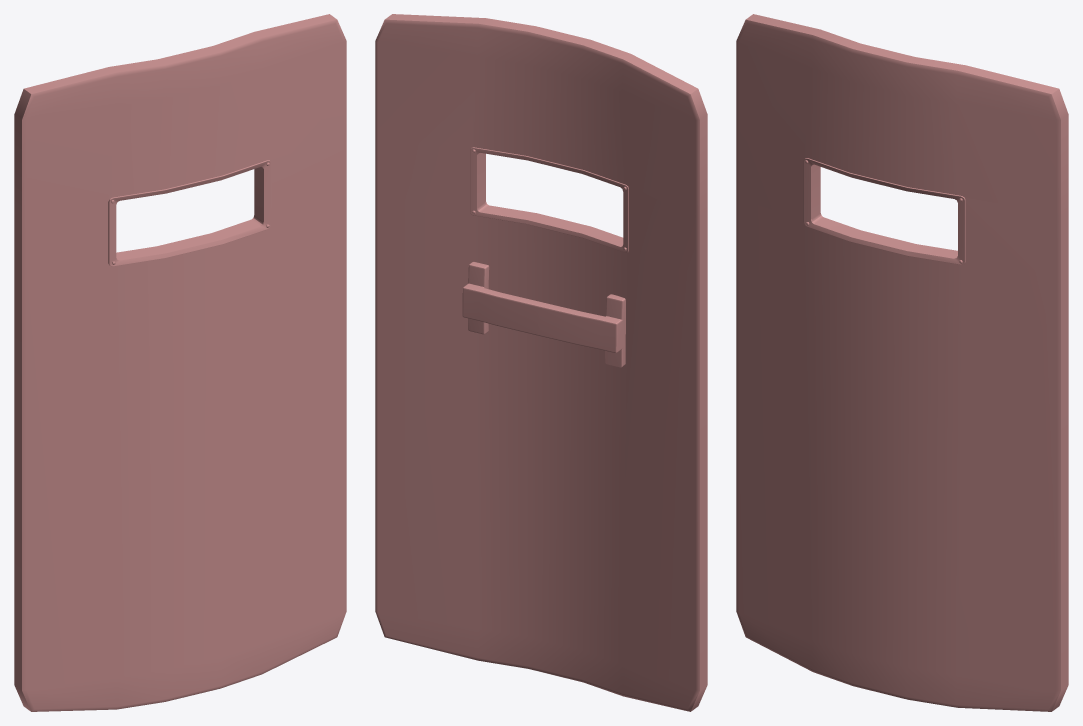
Rendered from RiotSheild01.fbx.
3 renders of one model, left to right at view 1: azimuth 30°, elevation 25°; view 2: azimuth 150°, elevation 25°; view 3: azimuth 330°, elevation 25°, orthographic.
Visible parts, largest first — view 1: RiotShield_Sheild; view 2: RiotShield_Sheild; view 3: RiotShield_Sheild.
Part boxes in pixels (bbox=[...]): RiotShield_Sheild: bbox=[14, 14, 346, 711]; RiotShield_Sheild: bbox=[375, 14, 707, 711]; RiotShield_Sheild: bbox=[736, 14, 1068, 711].
Size of the model in its own units: 65.09 by 122 by 8.93.
1 material, 1 textured.
